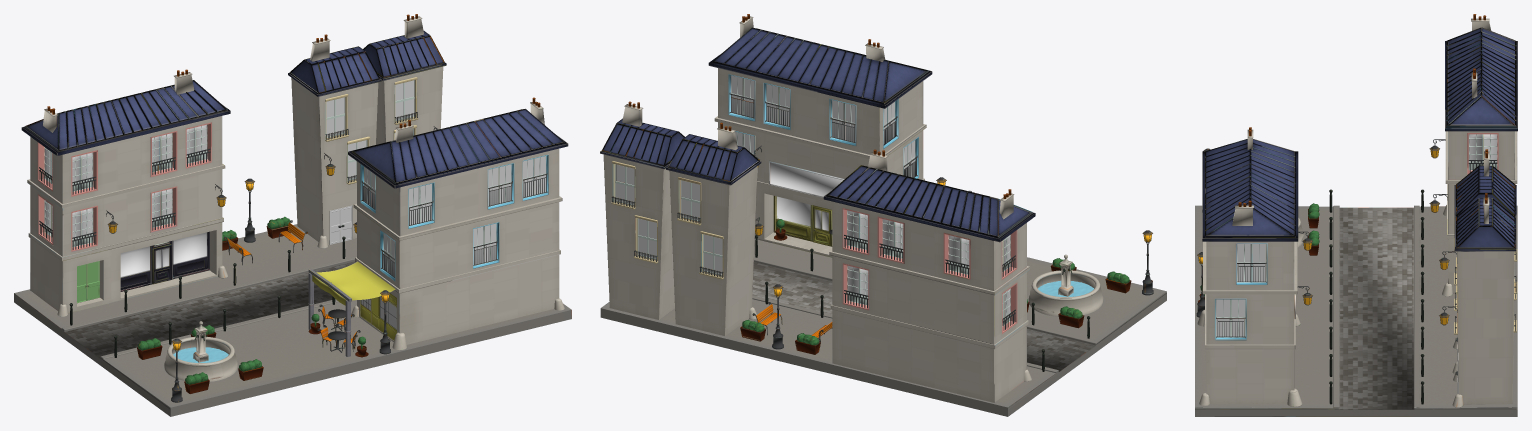
File: NewStreet.fbx
The picture shows the model from 3 angles, left to right: view 1: azimuth 30°, elevation 25°; view 2: azimuth 150°, elevation 25°; view 3: azimuth 270°, elevation 25°; orthographic projection. The views are drawn at different scales.
Parts seen in each view (by area): view 1: Building3, Building4, FloorBlock, Building2, RoadBlock, FloorBlock2, Building1, FrenchStreet_Baked, WaterFountain, Tent; view 2: Building4, Building3, Building2, Building1, FloorBlock2, RoadBlock, FloorBlock, FrenchStreet_Baked, WaterFountain; view 3: Building3, RoadBlock, Building1, Building4, FloorBlock, FloorBlock2, Building2, FrenchStreet_Baked.
Part boxes in pixels (bbox=[...]): Building3: bbox=[348, 97, 568, 350]; Building4: bbox=[21, 69, 230, 316]; FloorBlock: bbox=[103, 300, 571, 416]; Building2: bbox=[288, 34, 381, 248]; RoadBlock: bbox=[61, 256, 356, 367]; FloorBlock2: bbox=[14, 224, 356, 336]; Building1: bbox=[363, 14, 446, 144]; FrenchStreet_Baked: bbox=[69, 178, 390, 380]; WaterFountain: bbox=[164, 321, 237, 381]; Tent: bbox=[308, 261, 395, 356]; Building4: bbox=[823, 149, 1035, 402]; Building3: bbox=[708, 14, 932, 257]; Building2: bbox=[666, 122, 763, 335]; Building1: bbox=[600, 101, 684, 319]; FloorBlock2: bbox=[600, 299, 1056, 416]; RoadBlock: bbox=[752, 257, 1098, 381]; FloorBlock: bbox=[754, 239, 1166, 349]; FrenchStreet_Baked: bbox=[740, 177, 1090, 371]; WaterFountain: bbox=[1028, 254, 1103, 316]; Building3: bbox=[1197, 127, 1312, 406]; RoadBlock: bbox=[1333, 205, 1419, 416]; Building1: bbox=[1439, 193, 1517, 407]; Building4: bbox=[1429, 14, 1517, 296]; FloorBlock: bbox=[1195, 205, 1333, 416]; FloorBlock2: bbox=[1419, 205, 1517, 416]; Building2: bbox=[1439, 149, 1517, 374]; FrenchStreet_Baked: bbox=[1196, 189, 1424, 407].
Size of the model in its own units: 1663 by 837 by 1122.
